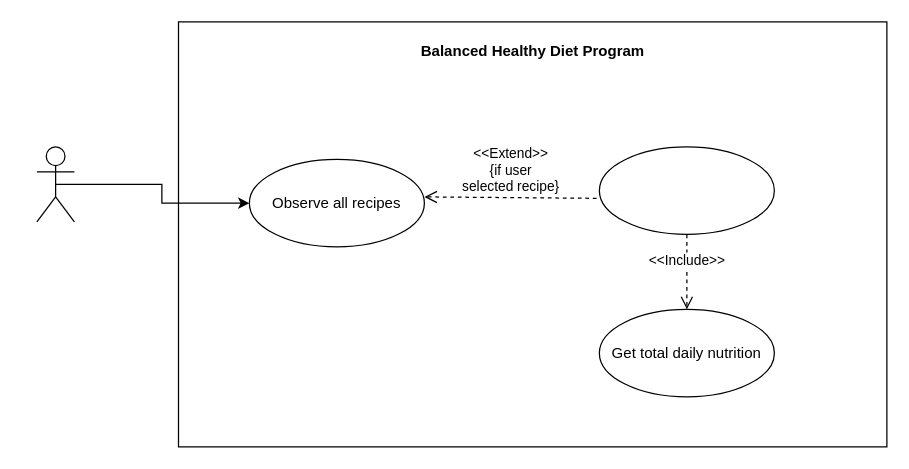
Some shapes in this 909 by 469 pixel diagram are drawn without their labels. The shapes that lost their labels are listed below. From the top down, each one's box as (x1, y1, x2, y2) in pixels, then its label:
(36, 146, 74, 222): Consumer
(598, 146, 774, 234): Add recipe to daily menu
